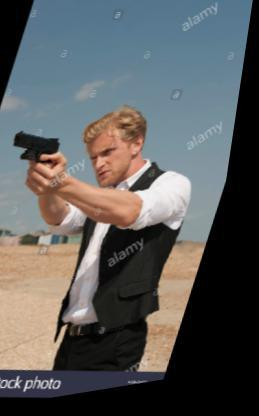pistol: (7, 122, 72, 177)
